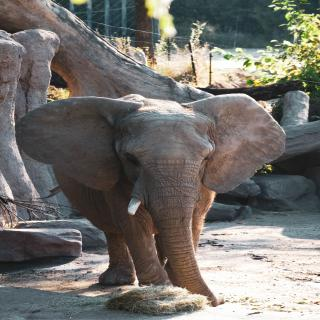Elephant: (11, 89, 291, 308)
